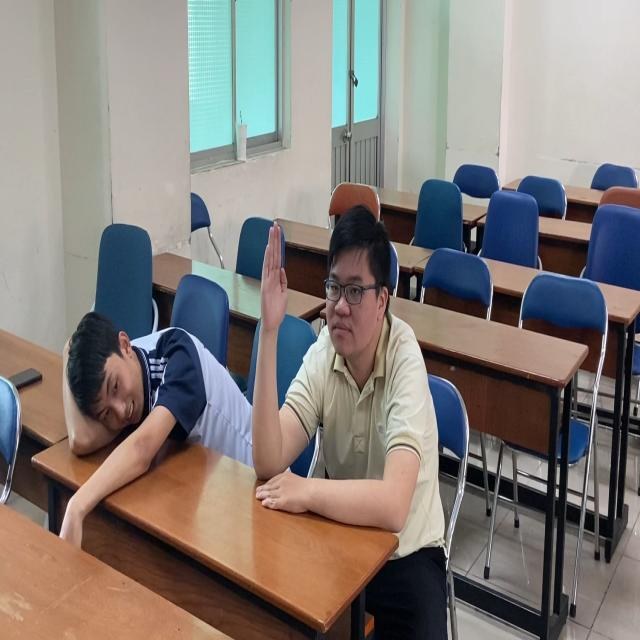raise_hand: (252, 210, 427, 539)
sleep: (29, 300, 250, 501)
